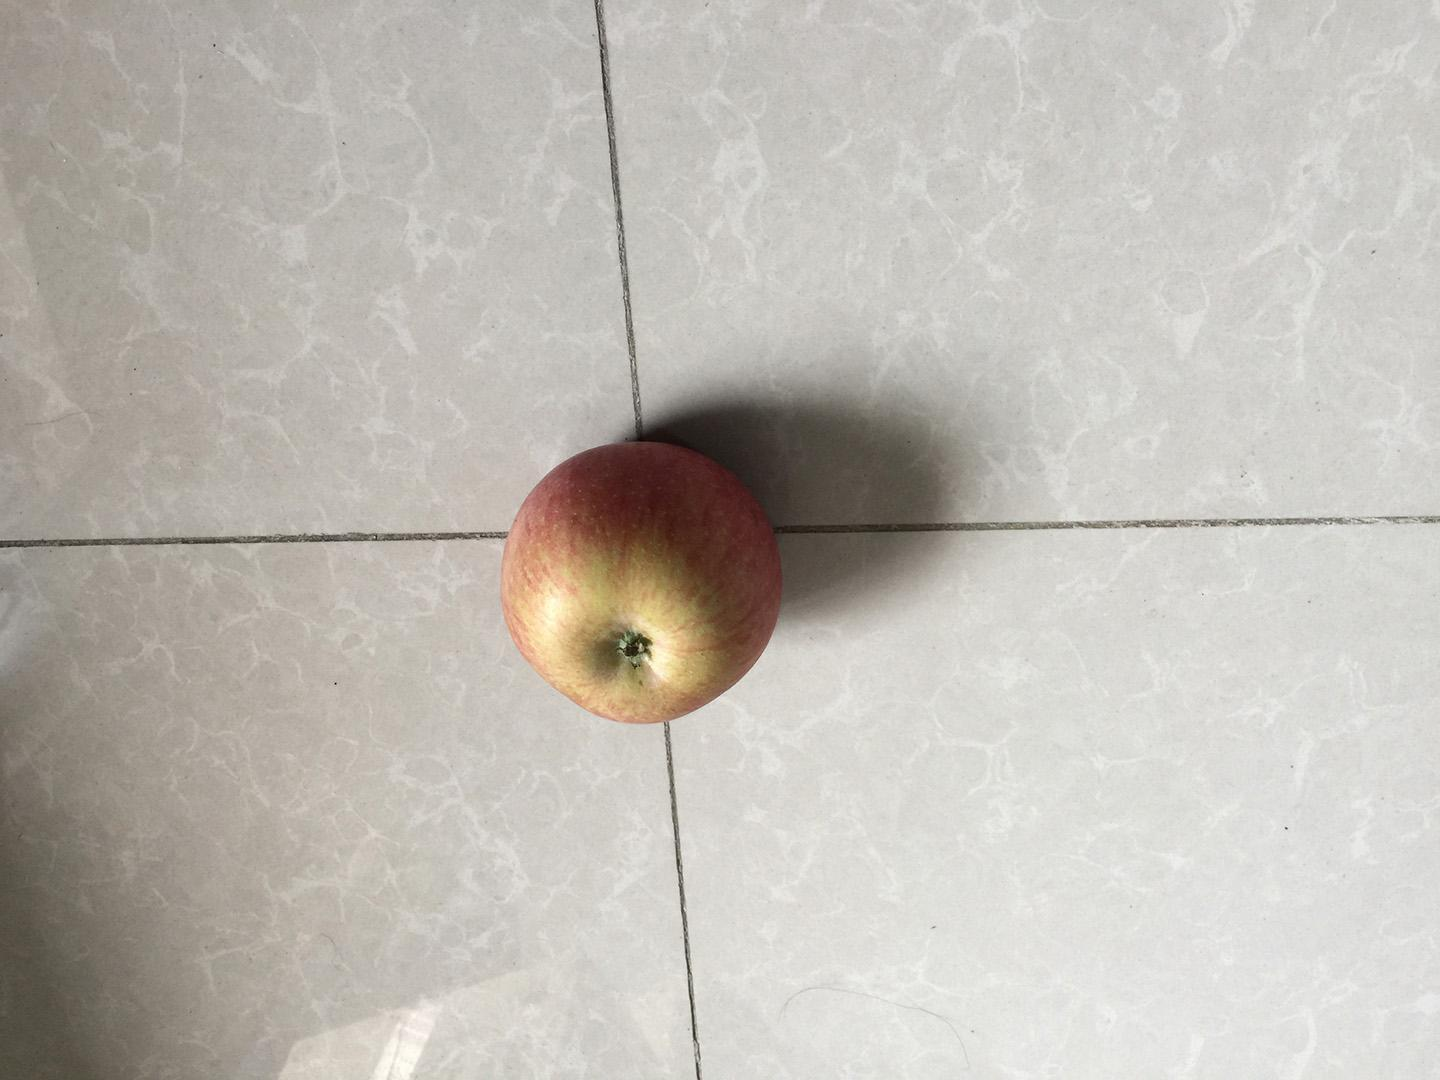apple: (495, 438, 790, 729)
